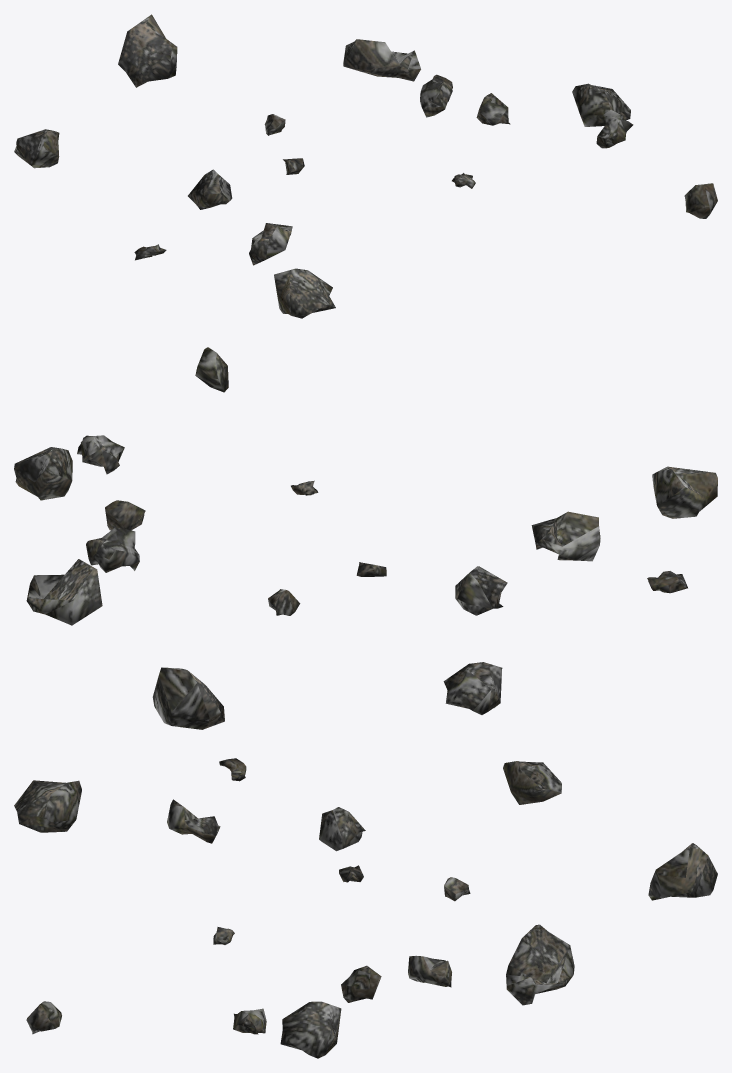
File: wasteland_gravel_02_001_lod1.gltf
The picture shows the model from 3 angles, top to bottom: view 1: azimuth 30°, elevation 25°; view 2: azimuth 150°, elevation 25°; view 3: azimuth 270°, elevation 25°; orthographic projection. The views are drawn at different scales.
Parts seen in each view (by area): view 1: Wasteland gravel 02.001; view 2: Wasteland gravel 02.001; view 3: Wasteland gravel 02.001.
Boxes of the visible parts, left/top/right/bottom form: Wasteland gravel 02.001: left=14, top=14, right=717, bottom=318; Wasteland gravel 02.001: left=14, top=347, right=717, bottom=729; Wasteland gravel 02.001: left=14, top=758, right=717, bottom=1058.
Bounding box in the file's own units: 0.4076 × 0.0381 × 0.4238.
1 material, 1 textured.
